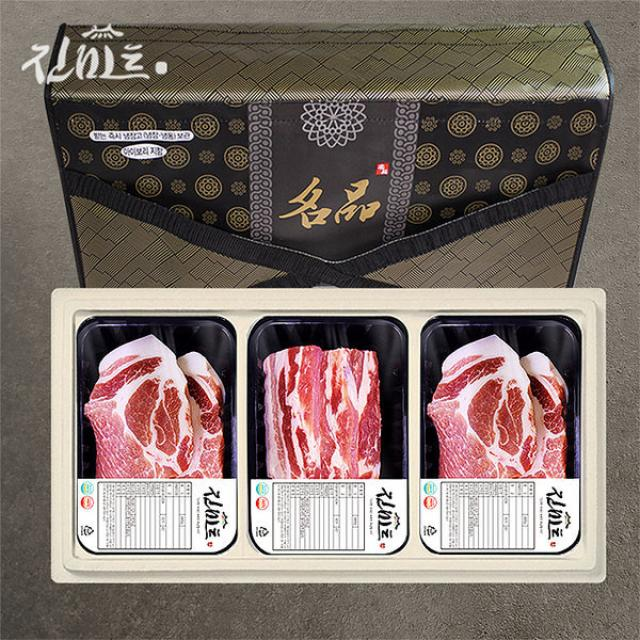pork: (13, 292, 602, 580)
